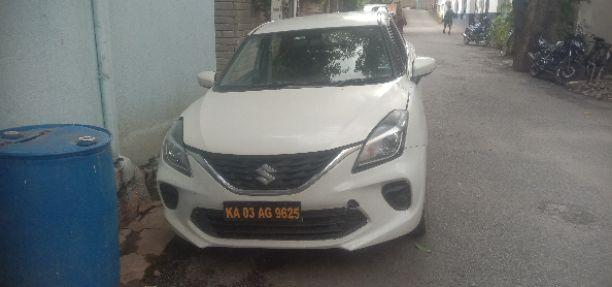license_plate: (221, 199, 303, 224)
